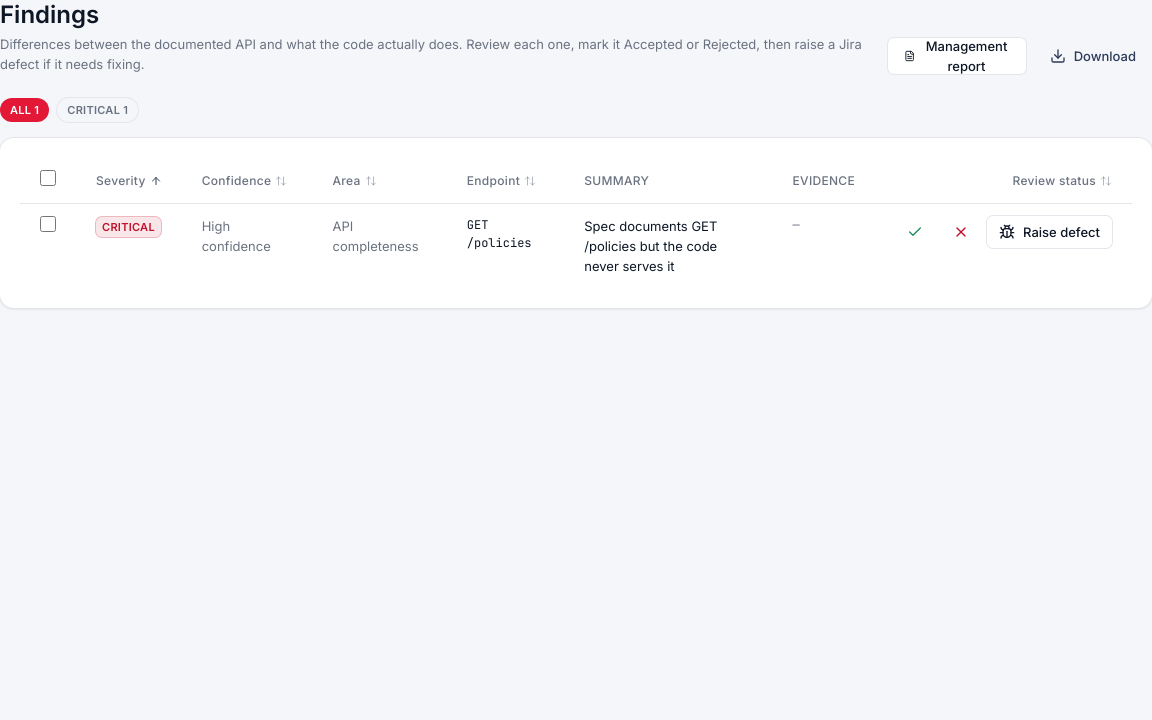
it: Findings disposition › rejecting opens a confirm modal, then PATCHes REJECTED
Check: the text "Spec documents GET /policies but the code never serves it" is shown, box [584, 218, 717, 274]
Click the button named "Reject — not applicable".
click(961, 232)  # box [941, 216, 981, 248]
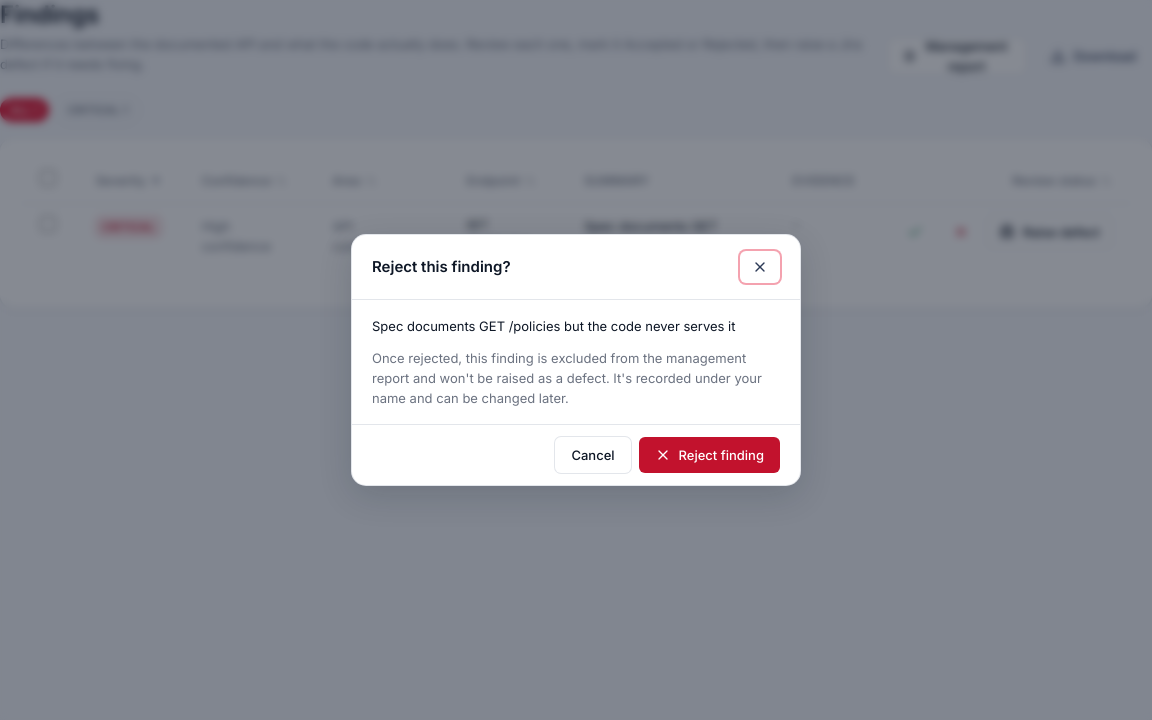
Check: the heading "Reject this finding?" is shown, box [372, 256, 510, 278]
Click the button "Reject finding".
click(709, 455)  # box [639, 437, 780, 473]
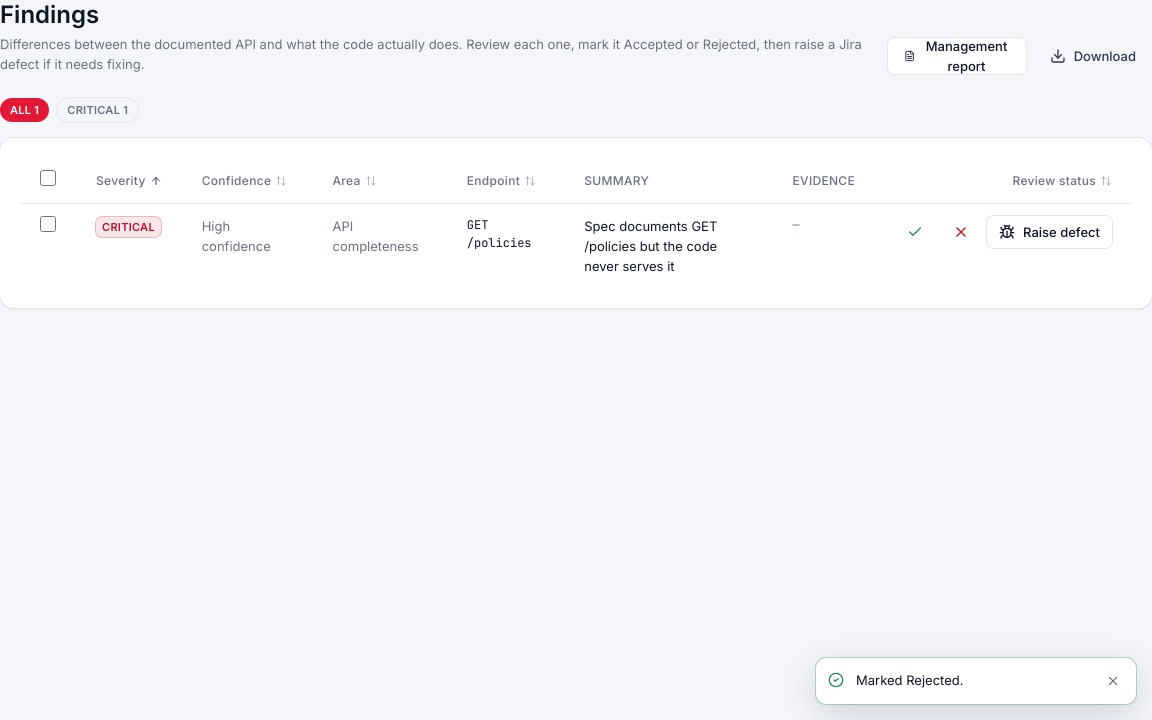
Check: the text "Marked Rejected." is shown, box [856, 672, 964, 688]
